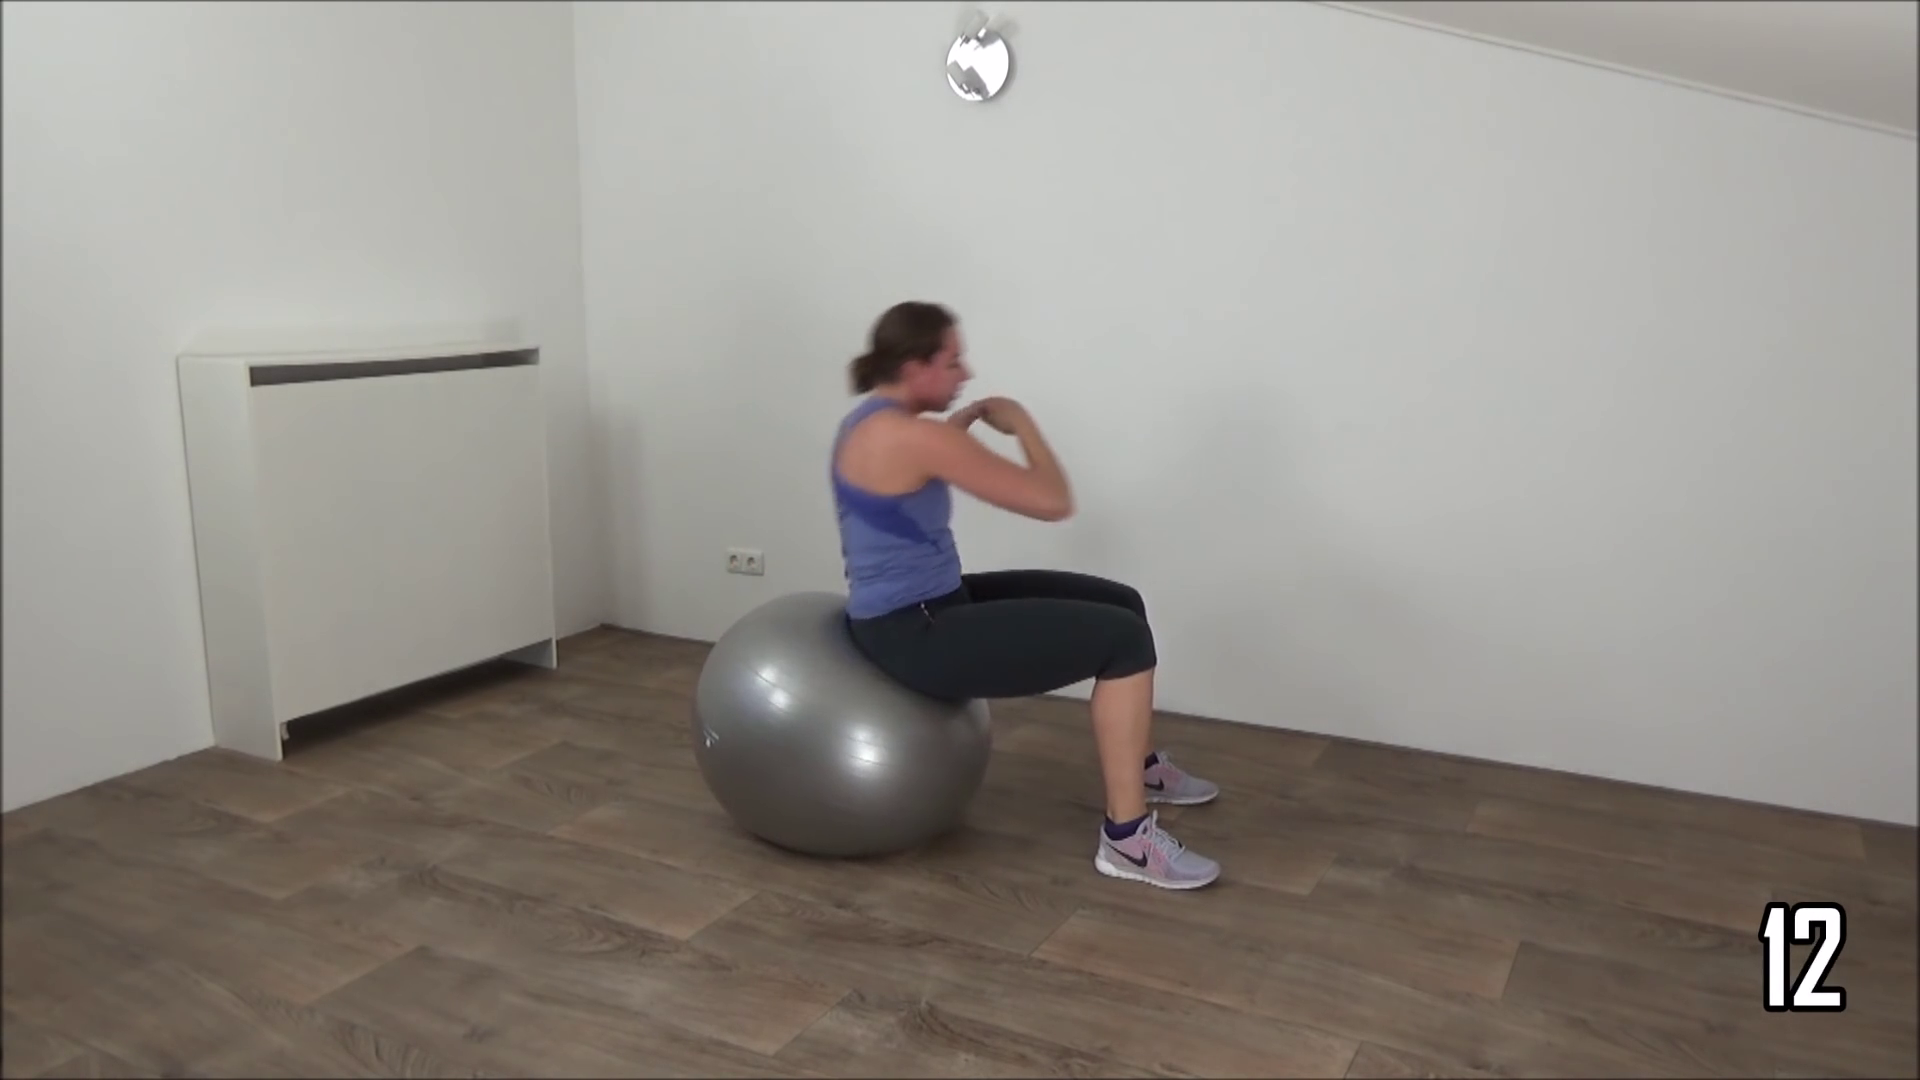yogaball: (678, 592, 1004, 868)
